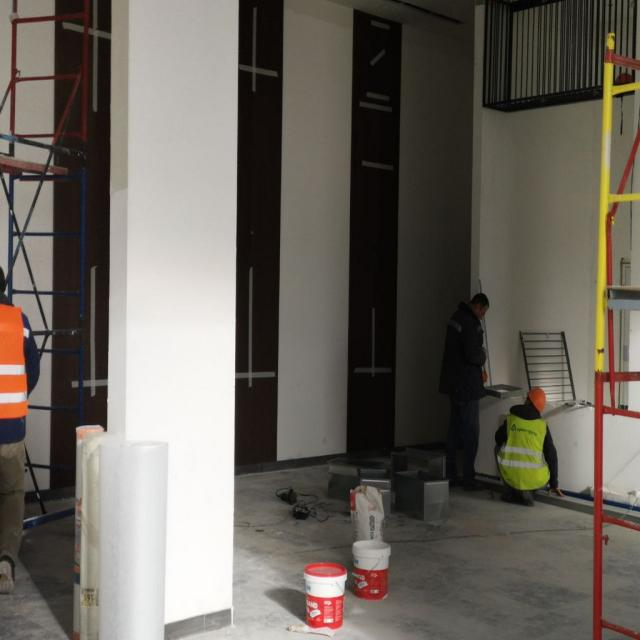Helmet: (525, 387, 549, 417)
NoHelmet: (468, 294, 493, 322)
